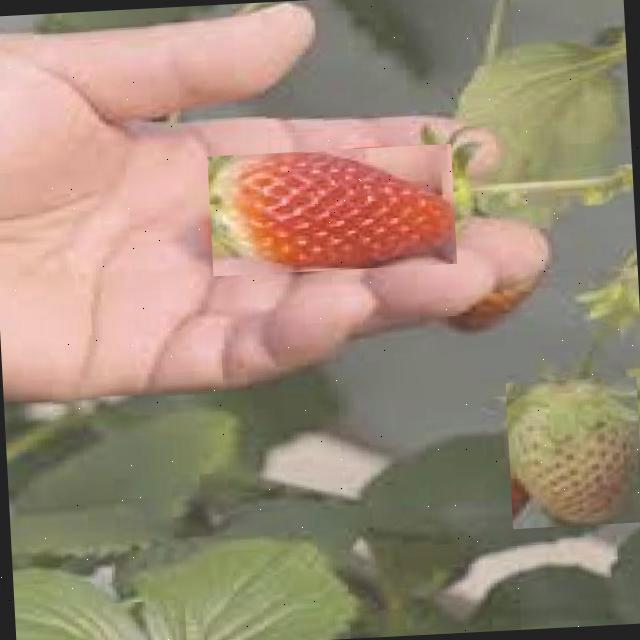ripe: (208, 144, 458, 276)
unripe: (506, 376, 640, 529)
